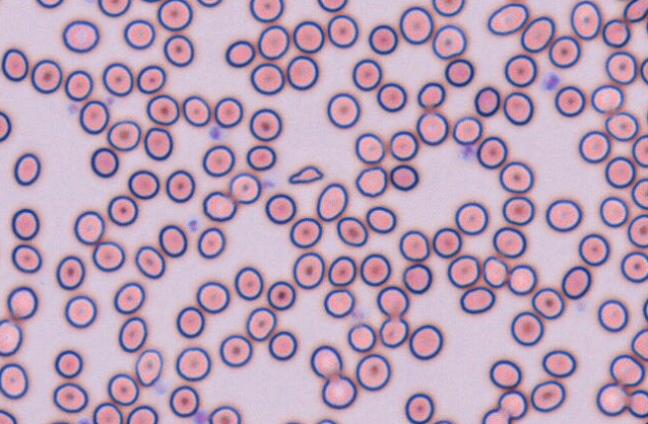PLT: (541, 72, 561, 89), (459, 144, 477, 160), (191, 409, 208, 424), (209, 126, 223, 140), (67, 103, 80, 117), (187, 218, 199, 232), (353, 310, 367, 322), (77, 416, 89, 424)
RBC: (355, 353, 391, 391), (487, 2, 528, 35), (520, 15, 555, 53), (399, 6, 433, 44), (408, 324, 443, 360), (175, 346, 211, 381), (316, 182, 348, 221), (321, 374, 356, 409), (326, 92, 360, 128), (62, 20, 99, 53), (545, 199, 582, 232), (292, 251, 324, 289), (570, 0, 601, 39), (432, 24, 466, 59), (454, 201, 488, 235), (310, 344, 343, 379), (510, 311, 543, 346), (250, 62, 284, 95), (249, 107, 282, 141), (609, 354, 644, 386), (6, 285, 38, 320), (530, 380, 565, 412), (257, 24, 289, 59), (286, 55, 318, 90), (52, 382, 88, 413), (134, 348, 163, 386), (447, 254, 480, 287), (219, 334, 252, 367), (504, 54, 537, 87), (202, 144, 235, 177), (499, 161, 533, 193), (30, 59, 62, 93), (416, 111, 448, 145), (492, 226, 526, 258), (107, 119, 141, 151), (245, 306, 276, 341), (157, 0, 192, 31), (73, 210, 104, 245), (596, 383, 628, 416), (376, 285, 409, 317), (228, 172, 261, 204), (531, 287, 564, 319), (92, 240, 125, 272), (113, 281, 145, 314), (578, 130, 610, 163), (292, 20, 324, 53), (548, 35, 580, 68), (196, 281, 229, 313), (64, 295, 96, 328), (359, 253, 391, 286), (605, 51, 637, 84), (202, 190, 236, 221), (102, 62, 133, 96), (327, 14, 358, 48), (476, 135, 507, 169), (134, 245, 165, 279), (597, 298, 628, 332), (502, 91, 533, 125), (604, 111, 639, 141), (118, 316, 147, 352), (107, 373, 139, 405), (351, 58, 382, 91), (578, 233, 609, 266), (289, 217, 322, 248), (354, 166, 387, 197), (146, 94, 179, 125), (561, 265, 591, 299), (79, 100, 109, 134), (56, 255, 85, 290), (0, 363, 28, 399), (459, 286, 495, 314), (604, 156, 635, 188), (163, 34, 194, 66), (398, 229, 429, 261), (264, 193, 296, 224), (354, 132, 385, 164), (554, 85, 585, 117), (165, 169, 195, 202), (501, 195, 534, 225), (143, 127, 173, 160), (234, 266, 263, 300), (541, 349, 576, 377), (107, 195, 138, 226), (169, 385, 199, 417), (489, 359, 521, 389), (123, 19, 155, 49), (127, 169, 159, 199), (336, 216, 368, 246), (590, 84, 623, 113), (158, 224, 187, 257), (13, 152, 41, 186), (378, 317, 408, 348), (402, 263, 432, 294), (507, 264, 537, 295), (323, 288, 354, 318), (404, 392, 434, 423), (11, 243, 42, 273), (376, 82, 407, 112), (64, 69, 93, 101), (214, 96, 243, 128), (136, 64, 166, 94), (90, 147, 119, 178), (432, 227, 461, 258), (327, 255, 356, 286), (599, 196, 628, 227), (389, 130, 418, 161), (176, 306, 204, 338), (11, 208, 39, 240), (182, 95, 210, 127), (1, 48, 28, 81), (497, 390, 527, 419), (347, 322, 376, 352), (452, 116, 482, 145), (268, 330, 297, 360), (266, 280, 295, 310), (444, 58, 474, 87), (368, 24, 397, 54), (197, 227, 225, 258), (224, 39, 255, 67), (365, 205, 396, 233), (620, 251, 647, 283), (482, 255, 508, 288), (0, 318, 22, 356), (54, 349, 82, 378), (416, 81, 445, 109), (602, 18, 630, 47), (246, 144, 276, 171), (474, 86, 500, 117), (389, 164, 418, 191), (249, 0, 283, 22), (627, 214, 647, 248), (92, 402, 123, 423), (208, 405, 241, 423), (97, 0, 131, 17), (126, 405, 158, 423), (630, 328, 647, 361), (628, 389, 647, 418), (623, 0, 648, 22), (431, 0, 464, 16), (631, 177, 647, 209), (632, 134, 647, 167), (481, 408, 510, 423), (317, 0, 347, 12), (0, 110, 11, 142), (0, 409, 17, 423), (35, 0, 64, 8), (640, 57, 647, 84), (196, 0, 222, 7), (642, 295, 648, 322), (48, 420, 71, 424), (139, 0, 163, 3), (645, 104, 648, 127), (645, 18, 648, 36), (82, 0, 99, 3)
Schistocyte: (288, 165, 324, 184)
